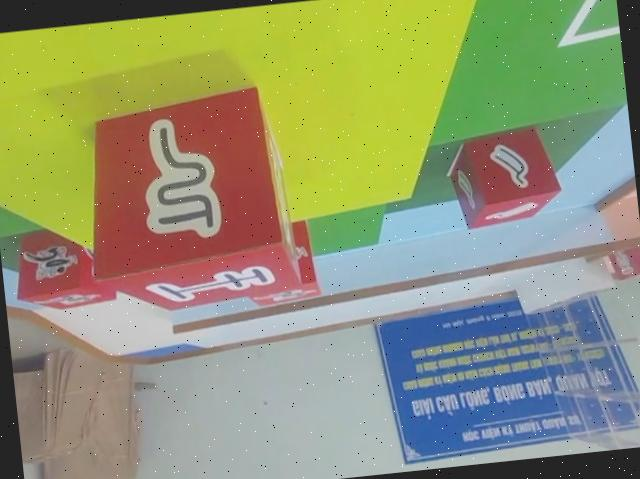R1: (6, 224, 115, 318)
R2 Fake: (72, 81, 302, 320)
R2 Real: (440, 119, 567, 234)
